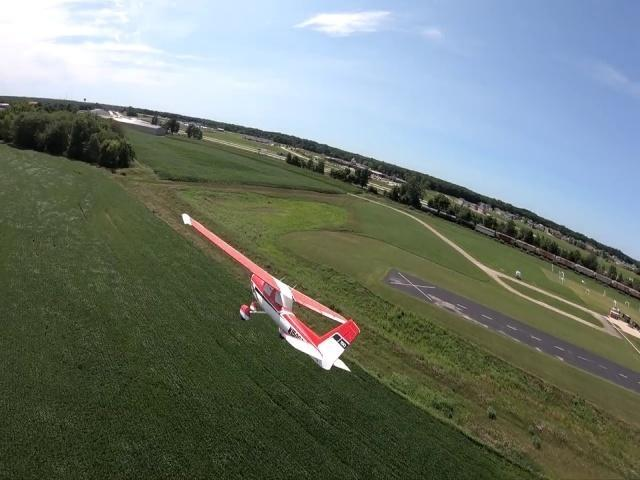Airplane: (182, 213, 360, 371)
